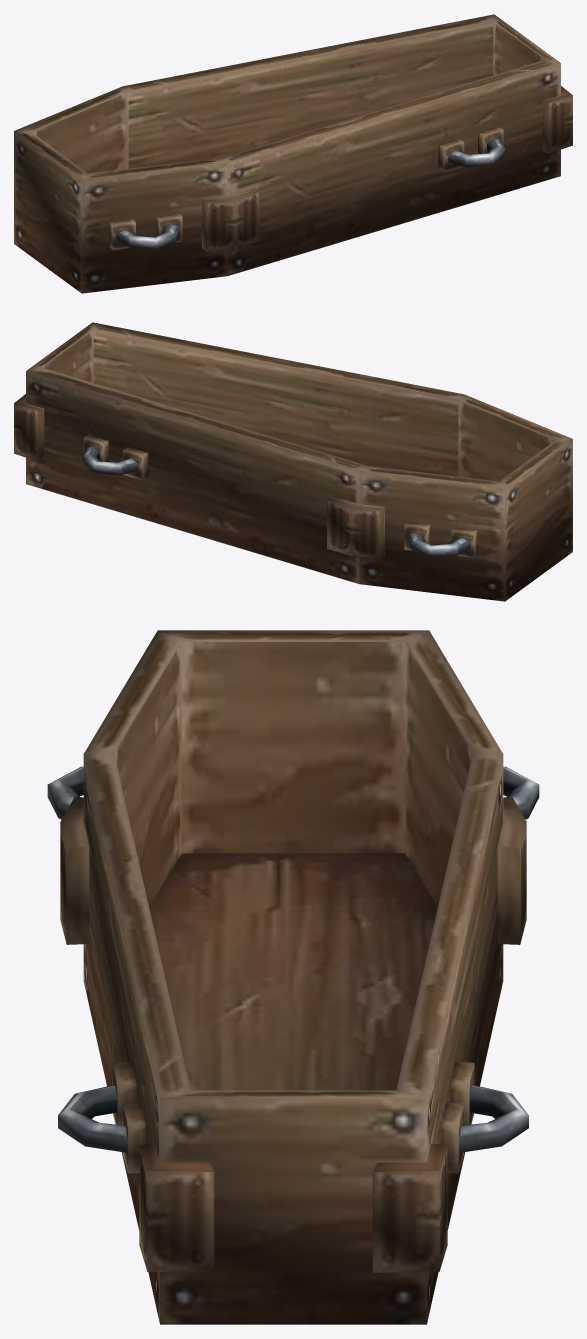
3 views of the same model, one above another, from view 1: azimuth 30°, elevation 25°; view 2: azimuth 150°, elevation 25°; view 3: azimuth 270°, elevation 25° (orthographic). The views are drawn at different scales.
Bounding box in the file's own units: 2.84 × 0.6261 × 1.23.
1 material, 1 textured.
